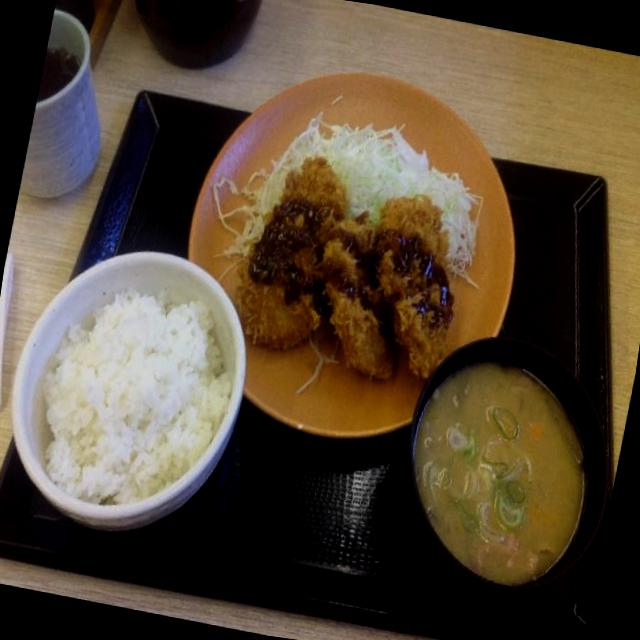Rice: (13, 258, 246, 524)
